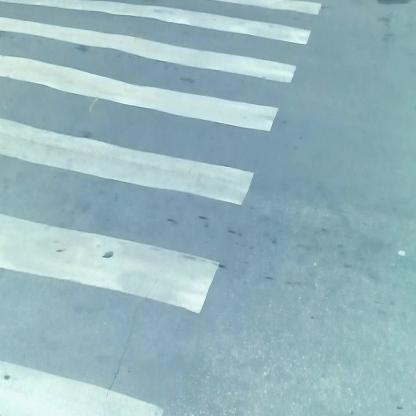crosswalk: (1, 4, 324, 322)
